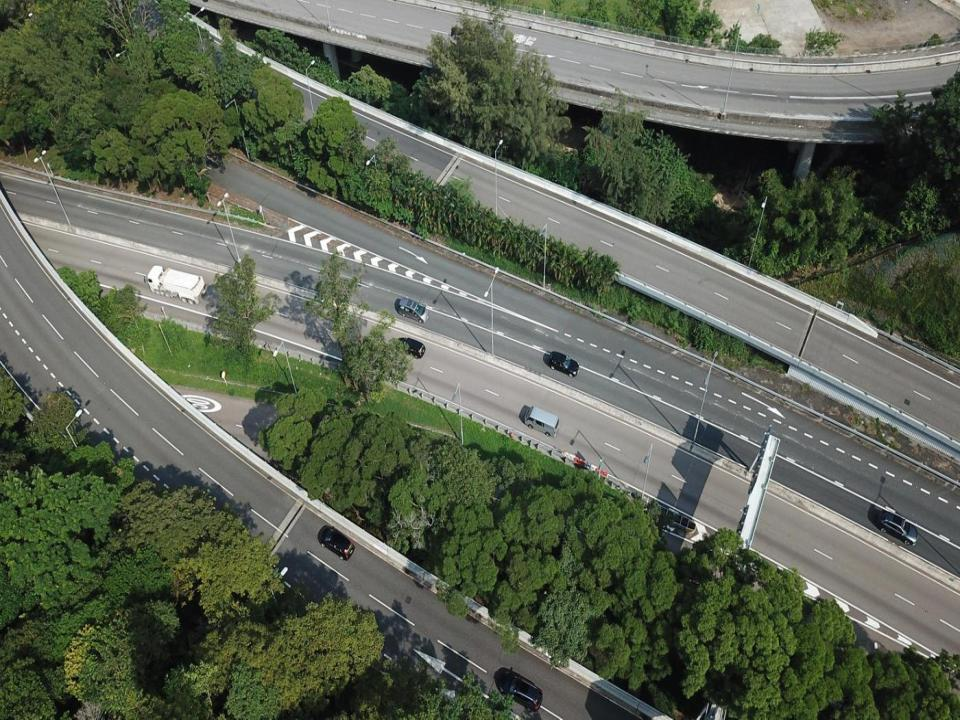car: (499, 670, 543, 712), (877, 508, 919, 547), (320, 525, 355, 560), (397, 296, 429, 323), (548, 350, 579, 377), (394, 336, 426, 359)
truck: (143, 264, 205, 305)
van: (524, 406, 560, 437)
